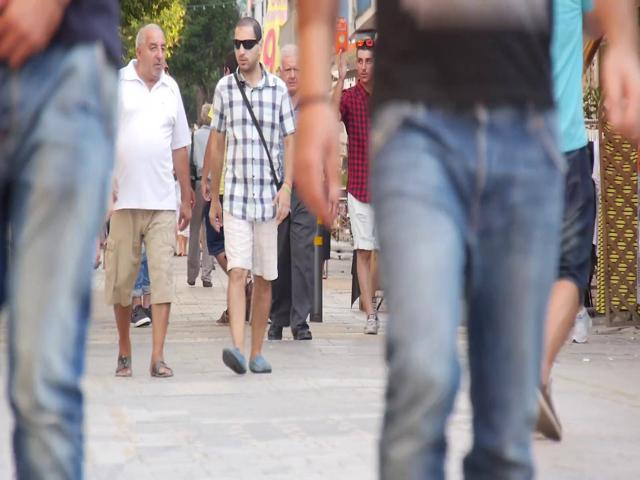shoe: (222, 347, 247, 374), (573, 308, 592, 343), (116, 348, 132, 377), (130, 305, 150, 327), (150, 359, 173, 378), (249, 355, 272, 373), (292, 324, 312, 340), (364, 314, 379, 333)
